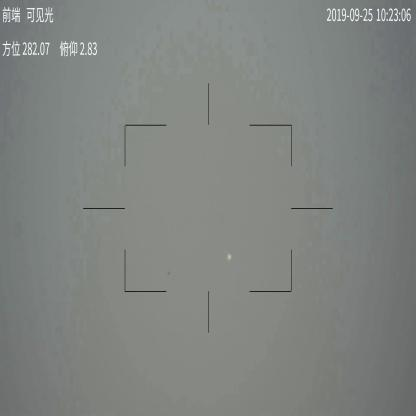uav: (226, 252, 232, 262)
